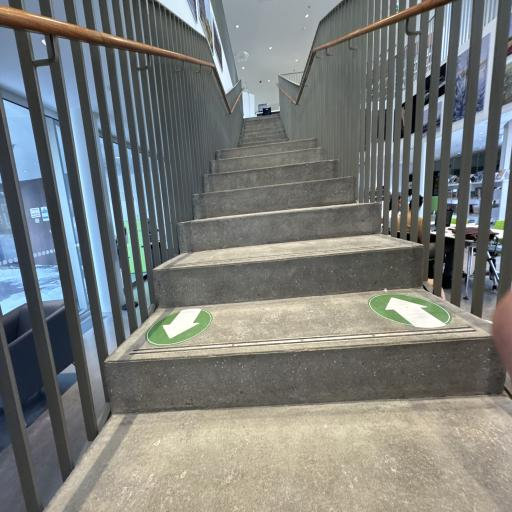Stairs: (47, 114, 512, 512), (106, 118, 504, 412), (45, 370, 512, 512)
